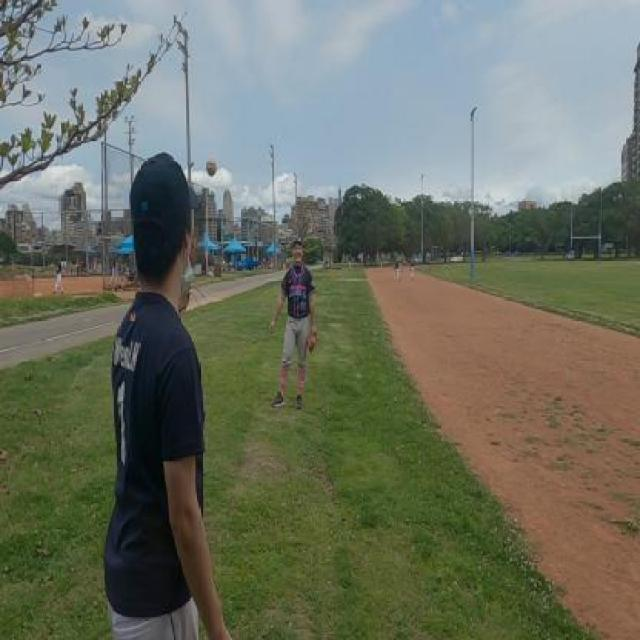baseball: (206, 157, 217, 177)
